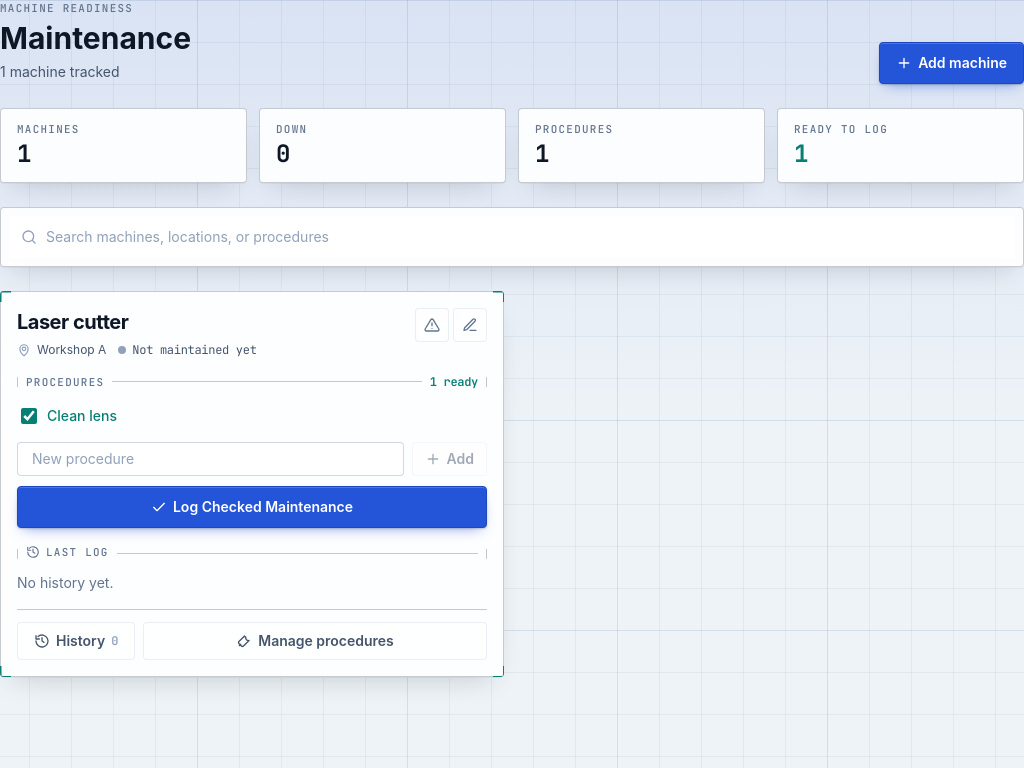
Test: logging who did the maintenance › credits nobody until someone is picked
Click the button "Log Checked Maintenance": [252, 507] box [17, 486, 487, 528]
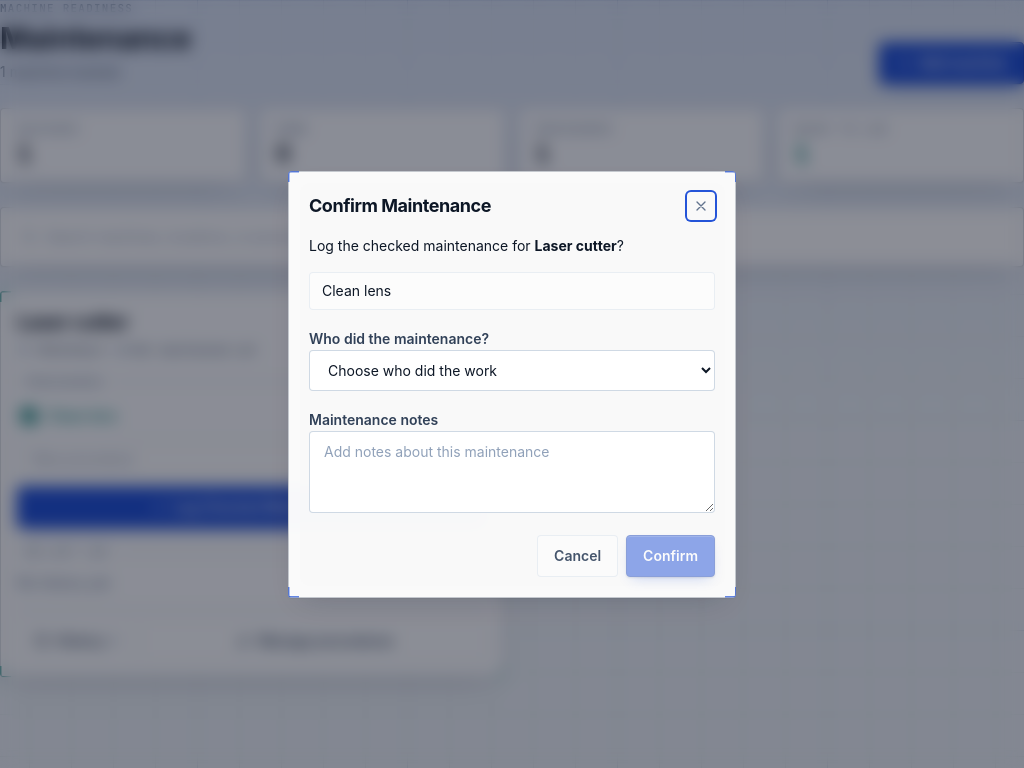
Result: the dropdown labelled "Who did the maintenance?" shows "Choose who did the work" at [309, 350, 715, 390]
Result: the button "Confirm" is disabled at [626, 534, 715, 576]
